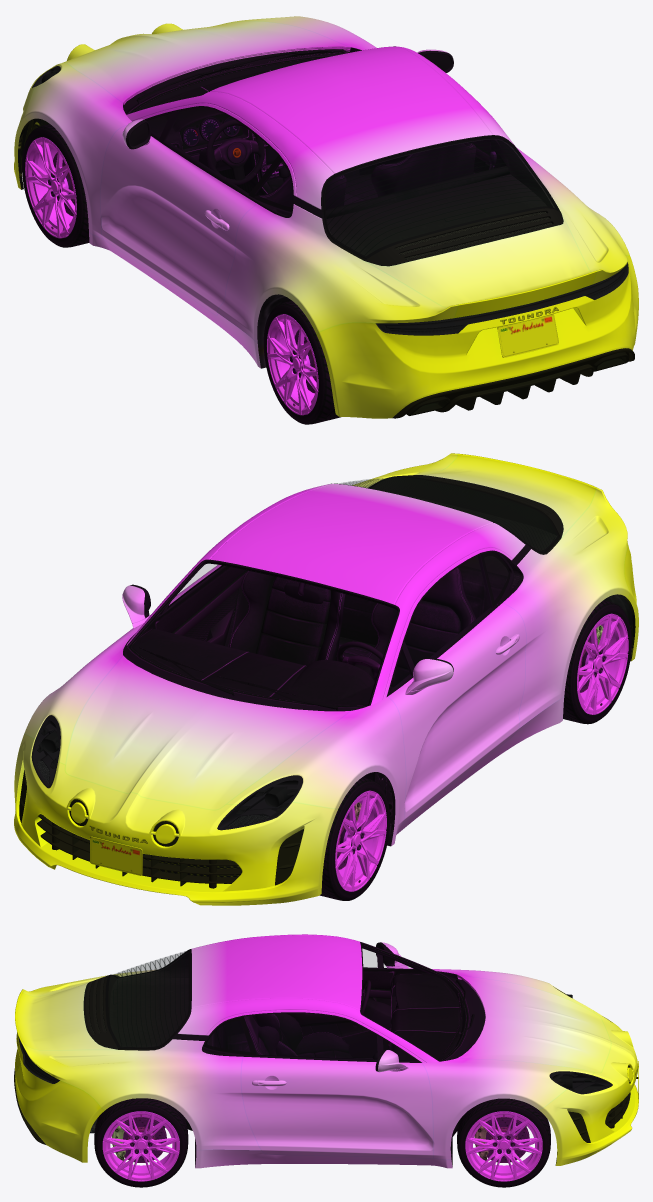
Rendered from panthere.glb.
3 views of the same model, one above another, from view 1: azimuth 30°, elevation 25°; view 2: azimuth 150°, elevation 25°; view 3: azimuth 270°, elevation 25° (orthographic). The views are drawn at different scales.
Visible parts, largest first — view 1: chassis, bodyshell, bumper_r, misc_e, door_dside_f, windscreen_r, boot, bonnet, wing_lf, wheel_lr, wheel_lf, misc_d (+12 smaller); view 2: bumper_f, bonnet, chassis, bodyshell, misc_e, door_dside_f, misc_f, wing_lf, wheel_lr, wheel_lf, misc_d, window_lf (+12 smaller); view 3: door_pside_f, chassis, bodyshell, misc_e, bonnet, wing_rf, windscreen_r, bumper_f, wheel_rr, wheel_rf, window_rf, bumper_r (+12 smaller).
Part boxes in pixels (<box>): chassis: <box>31,47,628,368</box>; bodyshell: <box>217,148,629,342</box>; bumper_r: <box>316,255,638,418</box>; misc_e: <box>210,46,492,173</box>; door_dside_f: <box>100,111,257,315</box>; windscreen_r: <box>323,136,558,259</box>; boot: <box>365,215,596,317</box>; bonnet: <box>65,21,350,104</box>; wing_lf: <box>24,62,131,239</box>; wheel_lr: <box>263,301,340,424</box>; wheel_lf: <box>22,124,89,247</box>; misc_d: <box>126,46,519,209</box>; bumper_f: <box>14,733,337,905</box>; bonnet: <box>65,655,350,809</box>; chassis: <box>31,492,632,846</box>; bodyshell: <box>352,453,630,728</box>; misc_e: <box>210,484,492,604</box>; door_dside_f: <box>387,600,526,823</box>; misc_f: <box>229,567,475,686</box>; wing_lf: <box>227,696,406,833</box>; wheel_lr: <box>563,600,631,724</box>; wheel_lf: <box>319,777,389,900</box>; misc_d: <box>126,483,525,704</box>; window_lf: <box>390,556,492,690</box>; door_pside_f: <box>241,1035,433,1158</box>; chassis: <box>18,942,612,1166</box>; bodyshell: <box>21,969,260,1150</box>; misc_e: <box>191,935,362,1010</box>; bonnet: <box>457,975,610,1072</box>; wing_rf: <box>422,1058,593,1159</box>; windscreen_r: <box>105,950,190,1049</box>; bumper_f: <box>538,1010,638,1165</box>; wheel_rr: <box>94,1098,188,1187</box>; wheel_rf: <box>457,1098,550,1187</box>; window_rf: <box>244,1014,415,1060</box>; bumper_r: <box>15,1032,104,1162</box>.
Bounding box in the file's own units: 1.92 × 1.26 × 4.22.
22 materials, 22 textured.
